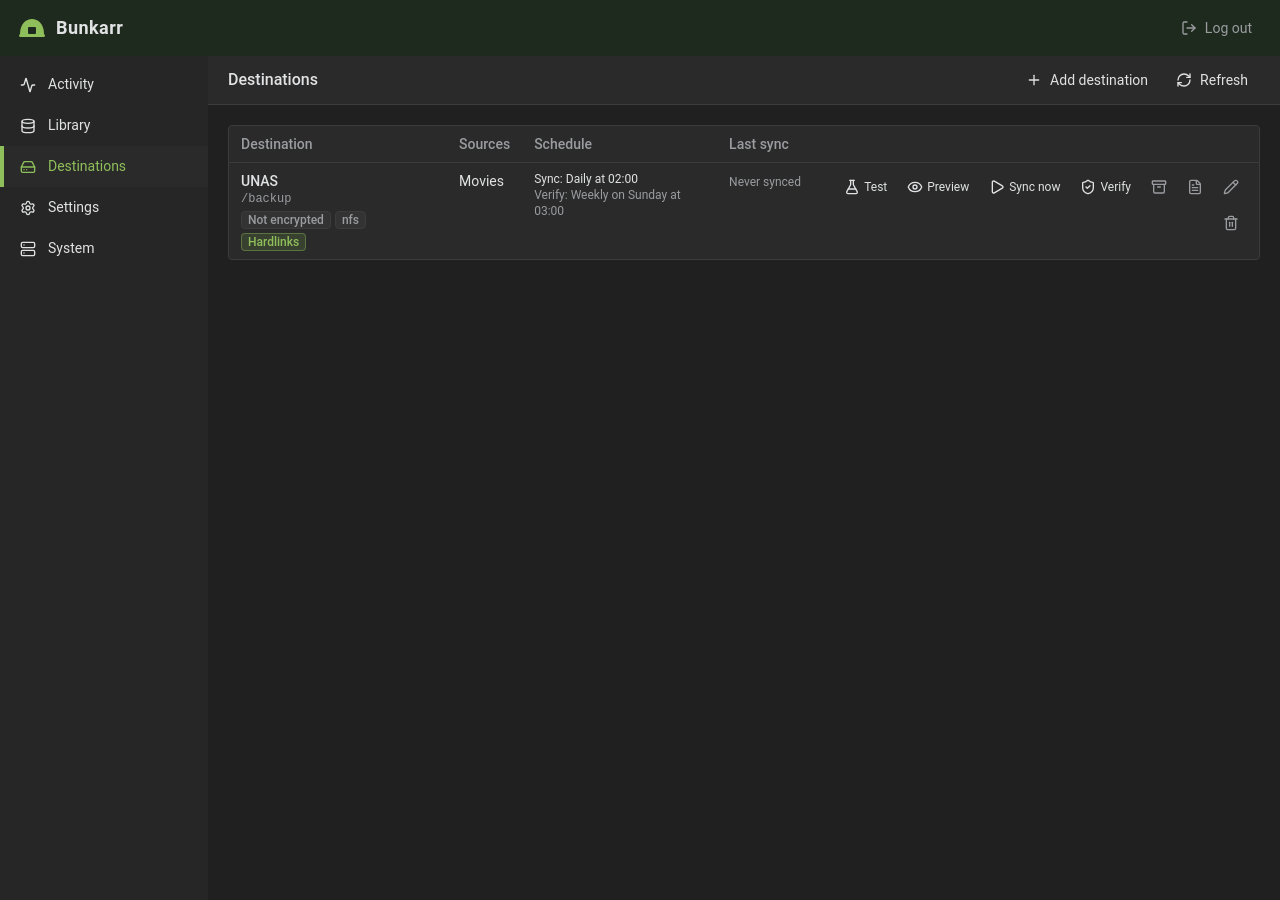
Manifest downloads › shows the server's error instead of saving it as the manifest (429 busy, 409 damaged)
This screenshot has width=1280, height=900.
Click the button named "Manifests on ".
click(1195, 187)  # box 1179,171 -> 1211,203
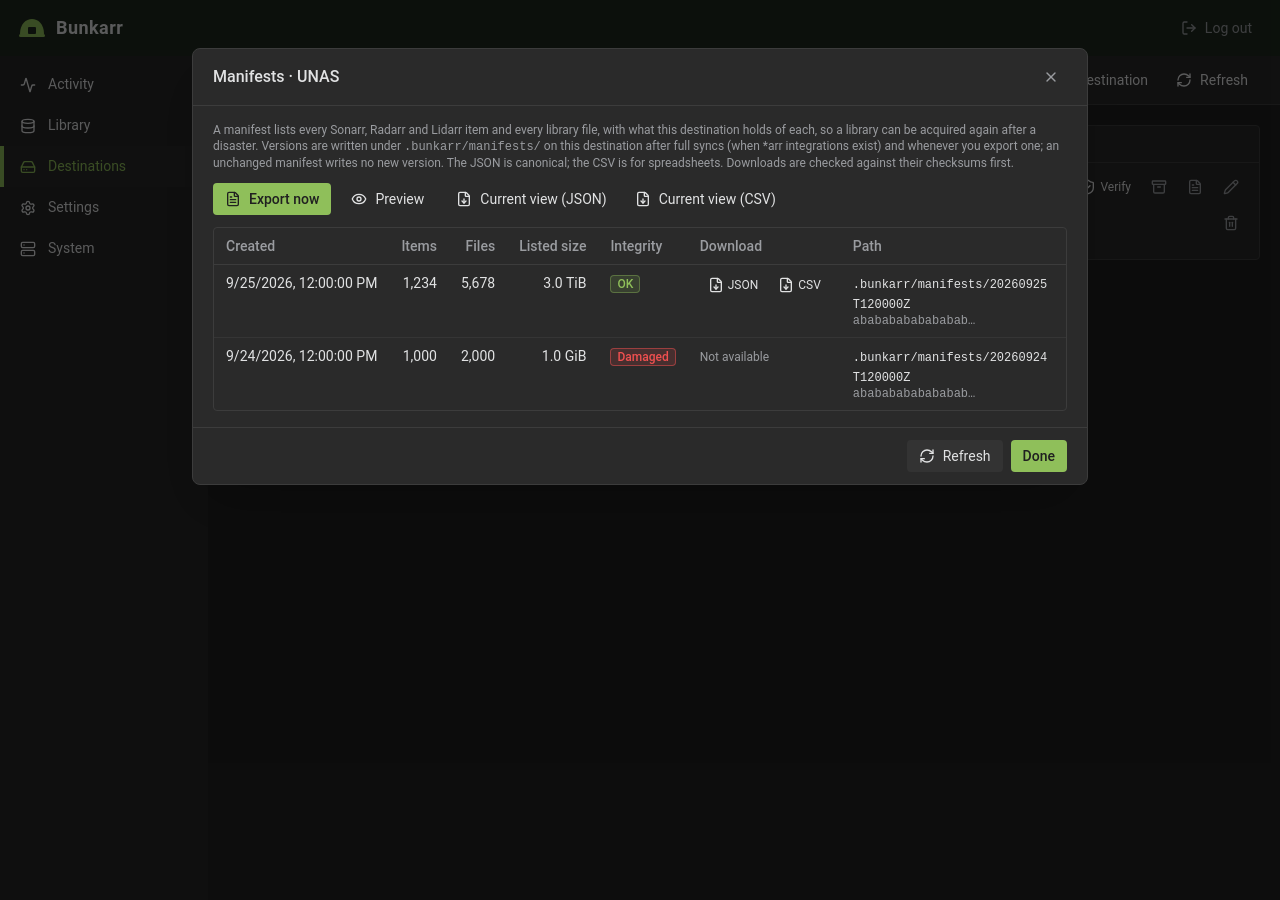
Click the link with aria-label "Current view as JSON".
click(531, 199)  # box 456,191 -> 607,207
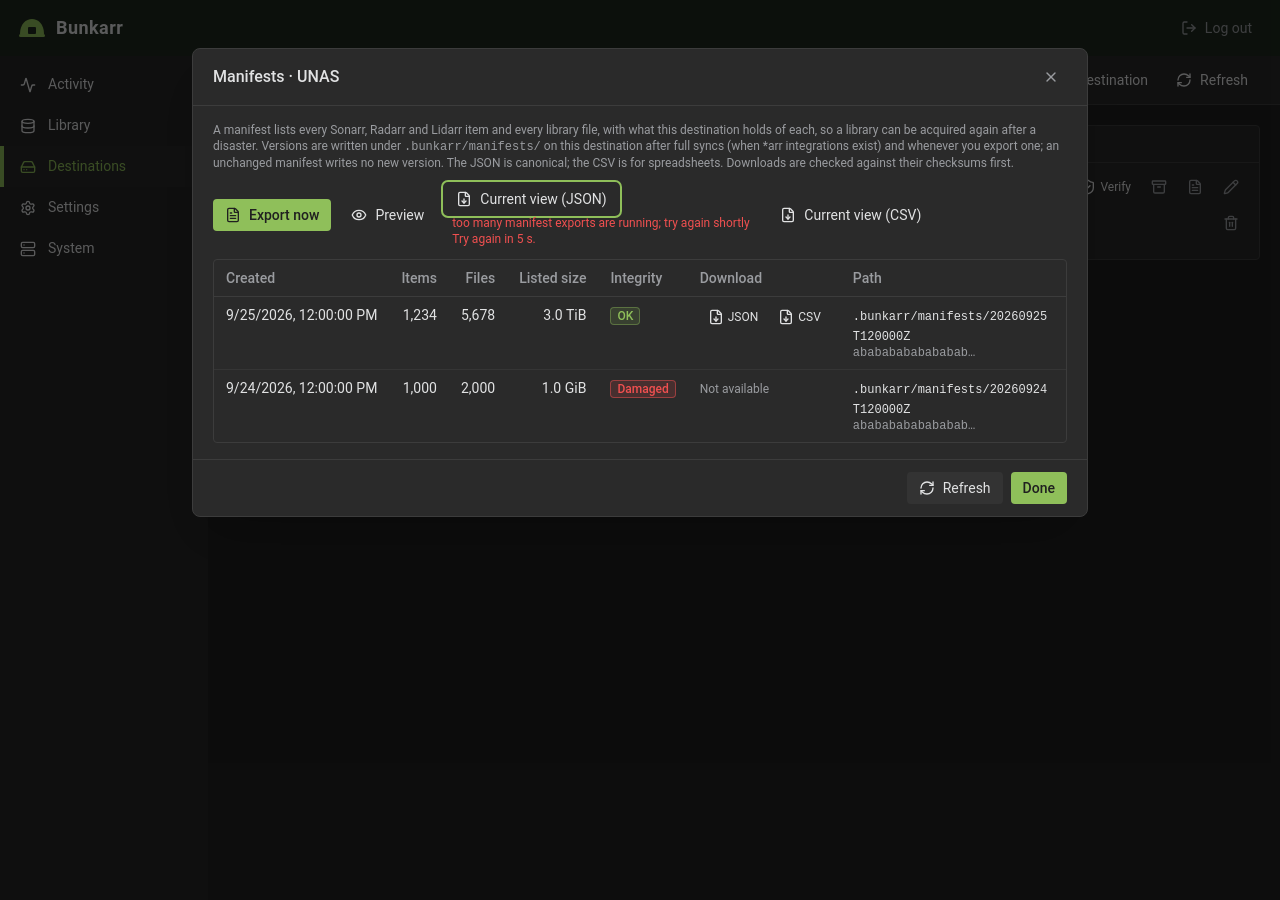
Expected: the text "too many manifest exports are running; try again shortly Try again in 5 s." is shown, 444,215 -> 764,247
Click the link "CSV".
click(800, 317)  # box 778,309 -> 821,325
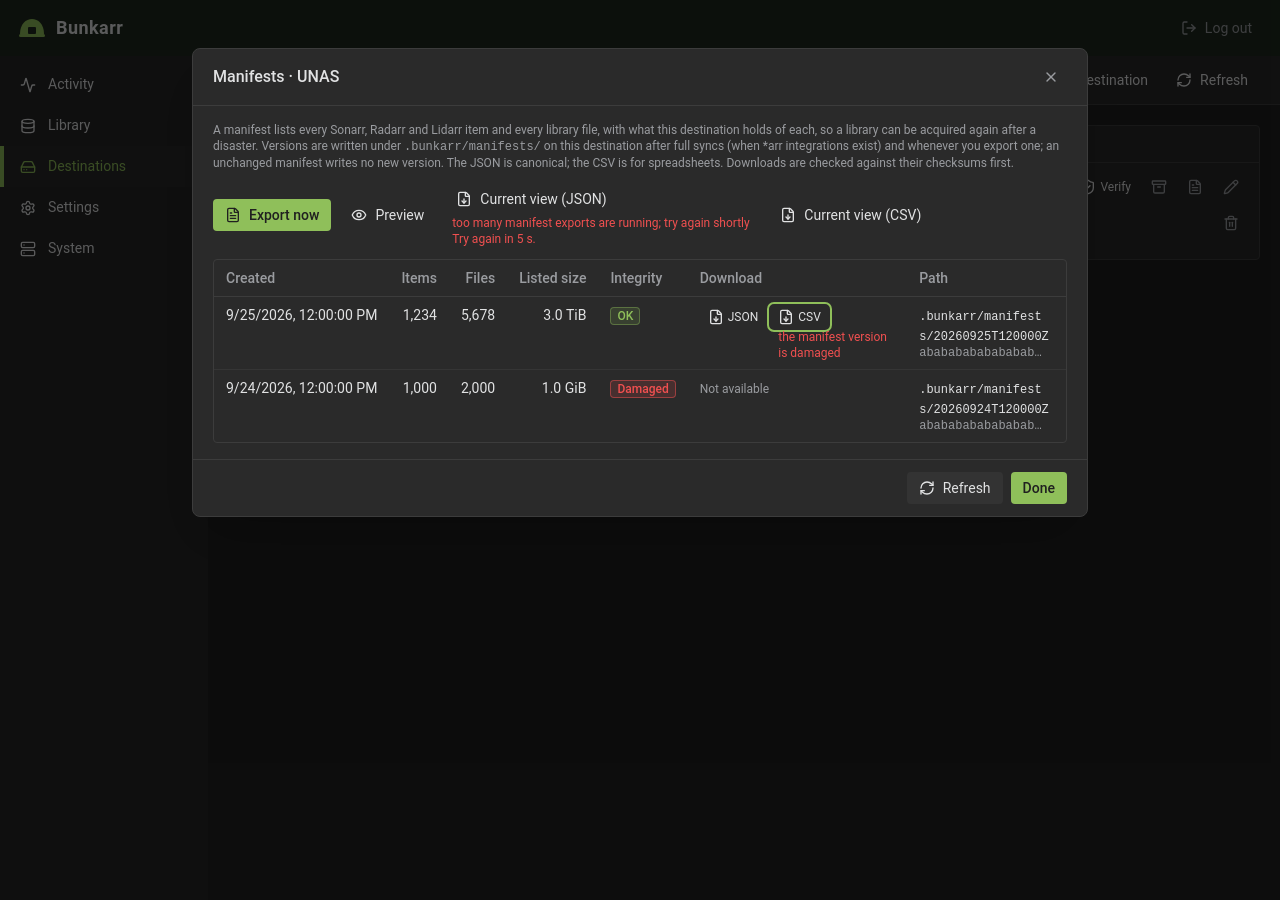
Expected: the text "the manifest version is damaged" is shown, 770,329 -> 895,361
